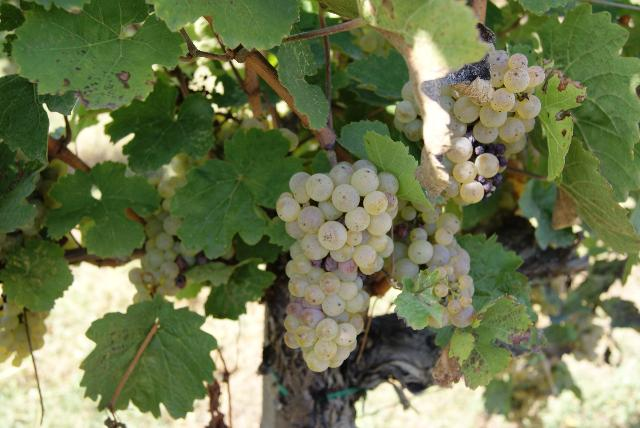grapes: (276, 160, 399, 372), (442, 51, 541, 204), (390, 200, 475, 329)
